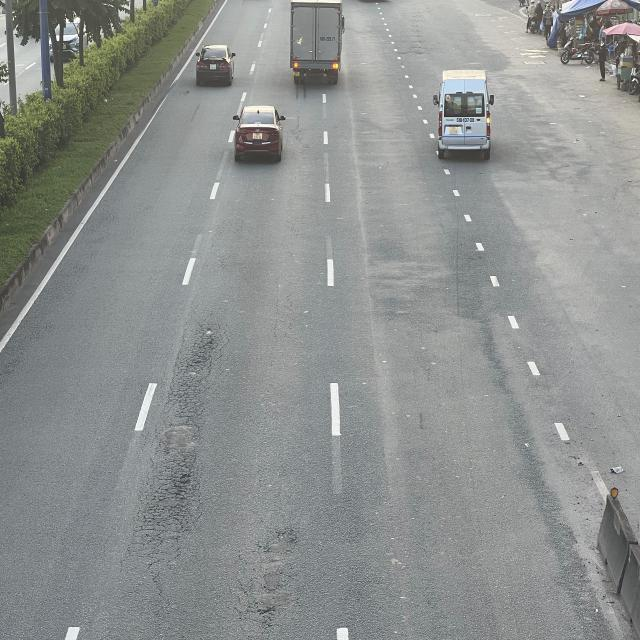car: (231, 102, 285, 159), (196, 46, 236, 88)
truck: (289, 0, 344, 83)
van: (432, 69, 493, 160)
